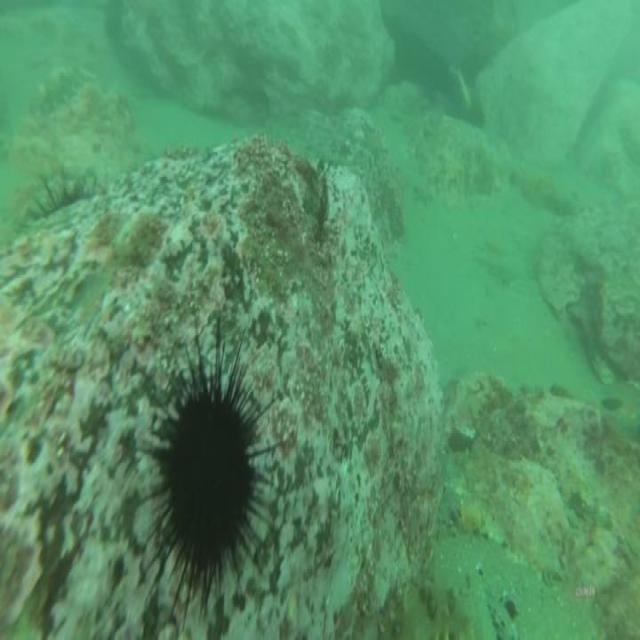echinus: (144, 342, 268, 612), (12, 162, 102, 238)
holothurian: (387, 573, 473, 640), (523, 168, 583, 218)
